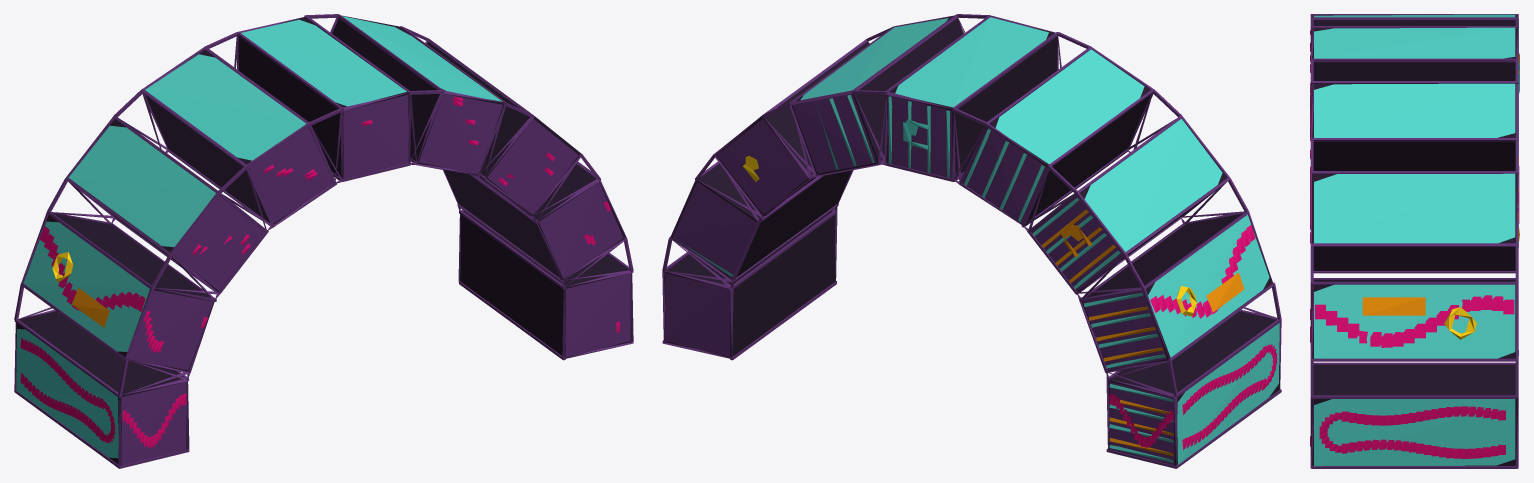
The model's file is ndsm-container-arch.lod1.glb.
The picture shows the model from 3 angles, left to right: view 1: azimuth 30°, elevation 25°; view 2: azimuth 150°, elevation 25°; view 3: azimuth 270°, elevation 25°; orthographic projection.
Visible parts, largest first — view 1: ndsm-container-arch; view 2: ndsm-container-arch; view 3: ndsm-container-arch.
Boxes of the visible parts, x1,y1,x2,y2 form: ndsm-container-arch: [14, 14, 633, 468]; ndsm-container-arch: [662, 14, 1281, 468]; ndsm-container-arch: [1310, 14, 1519, 468].
Bounding box in the file's own units: 18.55 × 10.53 × 6.63.
